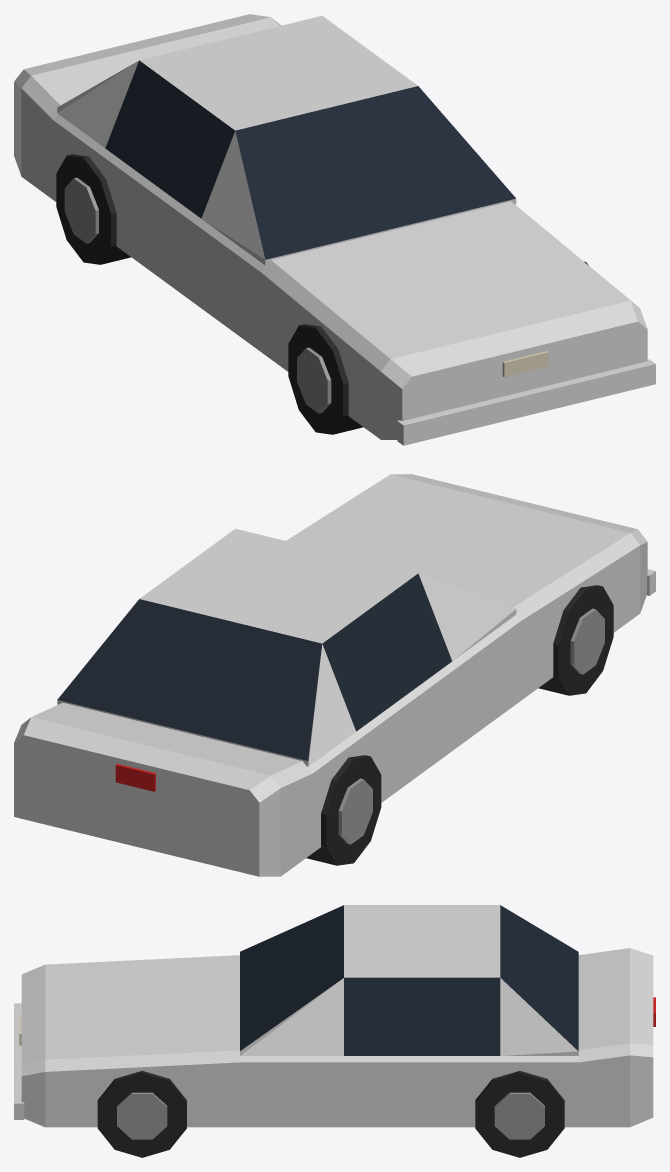
The model's file is voiture_coupe.glb.
3 renders of one model, top to bottom at view 1: azimuth 30°, elevation 25°; view 2: azimuth 150°, elevation 25°; view 3: azimuth 270°, elevation 25°, orthographic. The views are drawn at different scales.
Visible parts, largest first — view 1: voiture_coupe; view 2: voiture_coupe; view 3: voiture_coupe.
Part boxes in pixels (<box>): voiture_coupe: <box>14,14,655,445</box>; voiture_coupe: <box>14,474,655,876</box>; voiture_coupe: <box>14,905,655,1157</box>.
Size of the model in its own units: 2 by 1.38 by 4.93.
